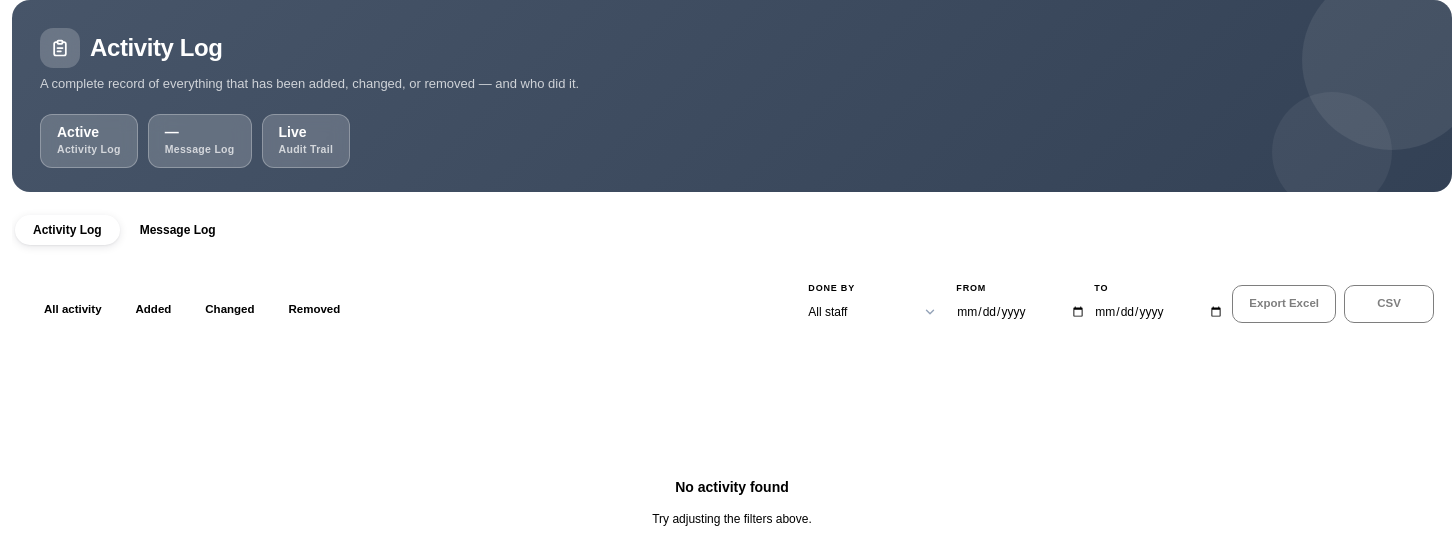
Test: AuditLogPage › switching to Message Log tab renders date filters
Step 1. Click the button "Message Log" → {"x": 178, "y": 230}, box [122,215,234,245]
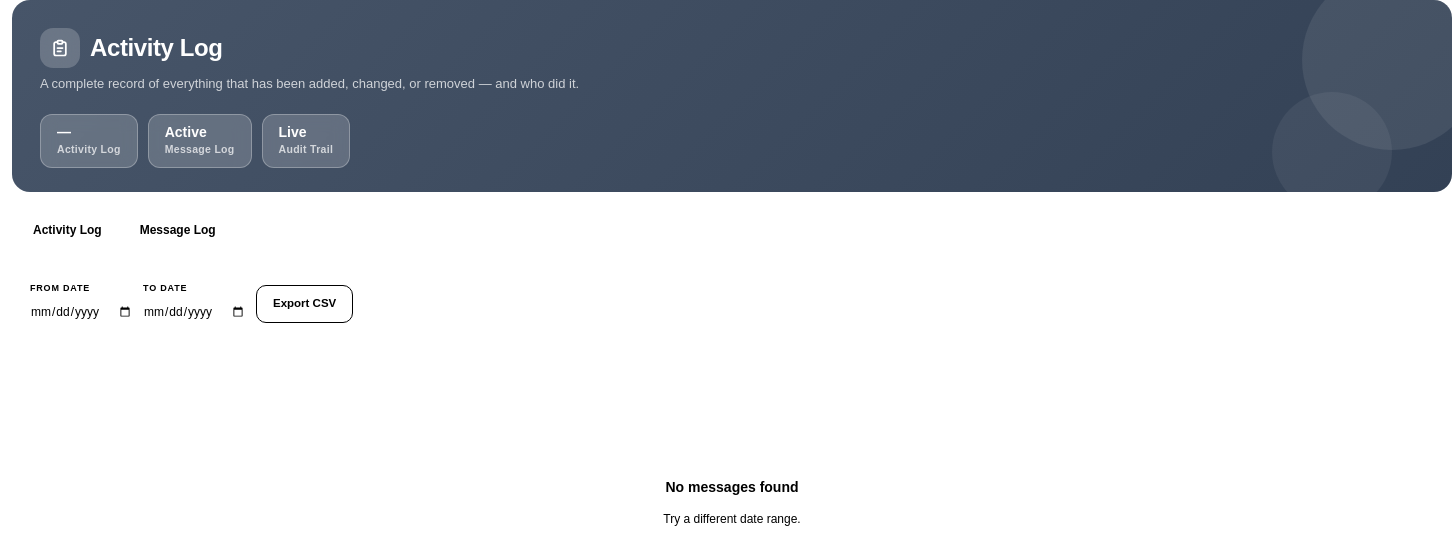
Expected: the text "From date" is shown, [30,283,90,293]
